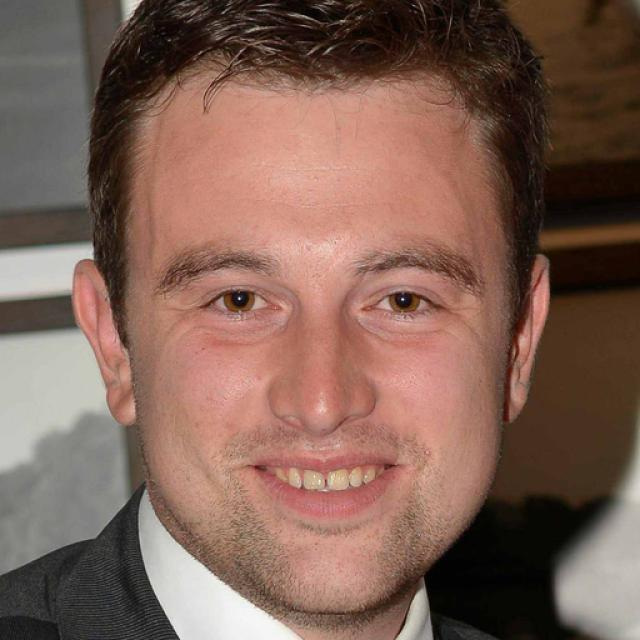happy: (129, 68, 510, 622)
